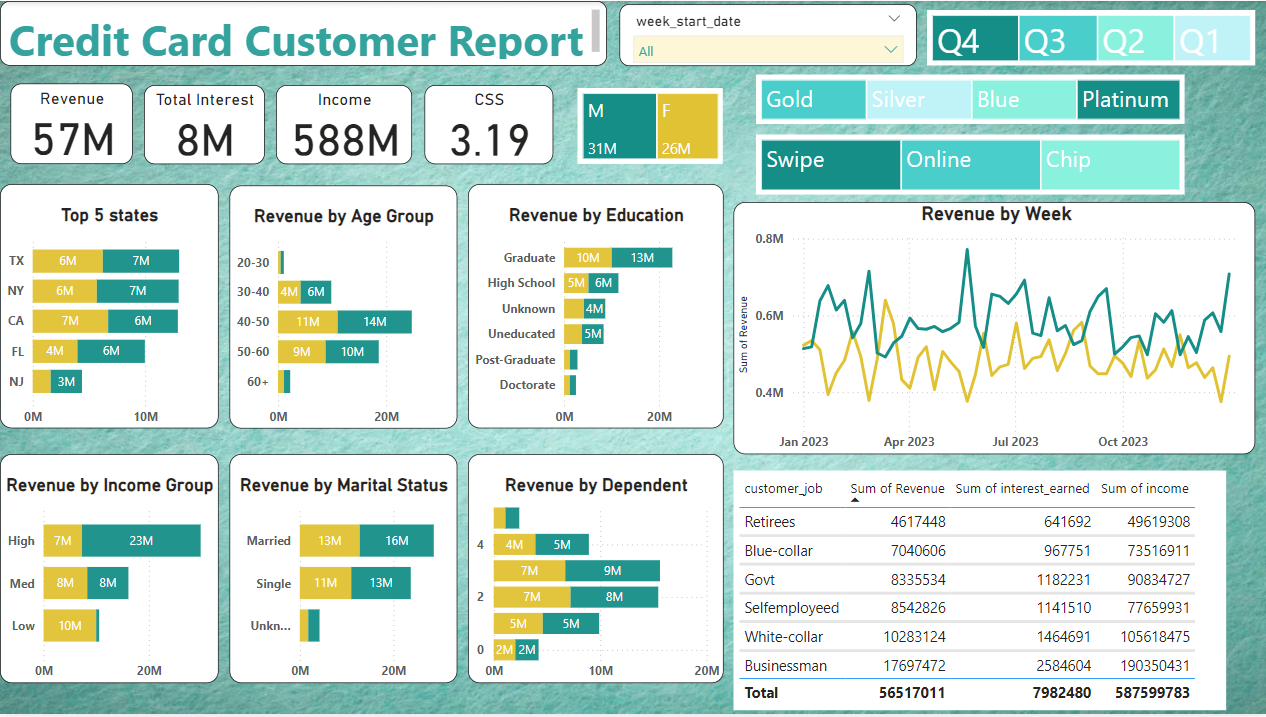

The page's visual inventory and layout, read from the dashboard file:
{"tool":"powerbi","page":{"name":"CC Customer","canvas":[1280,720],"ordinal":2},"visuals":[{"type":"textbox","box":[0,0,612.5,65.6],"z":0},{"type":"barChart","title":"Revenue by Income Group","fields":{"Y":["Sum(public cc_detail.Revenue)"],"Category":["public cust_detail.IncomeGroup"],"Series":["public cust_detail.gender"]},"box":[0,458,220.4,231.3],"z":1000},{"type":"tableEx","fields":{"Values":["public cust_detail.customer_job","Sum(public cc_detail.Revenue)","Sum(public cc_detail.interest_earned)","Sum(public cust_detail.income)"]},"box":[740.9,473.6,497,242.3],"z":2000},{"type":"card","title":"Revenue","fields":{"Values":["Sum(public cc_detail.Revenue)"]},"box":[10.9,82.8,123.5,81.3],"z":3000},{"type":"card","title":"Income","fields":{"Values":["Sum(public cust_detail.income)"]},"box":[278.2,84.4,137.5,79.7],"z":4000},{"type":"card","title":"Total Interest","fields":{"Values":["Sum(public cc_detail.interest_earned)"]},"box":[145.4,84.4,121.9,79.7],"z":5000},{"type":"card","title":"CSS","fields":{"Values":["Avg(public cust_detail.cust_satisfaction_score)"]},"box":[428.3,84.4,129.7,79.7],"z":6000},{"type":"slicer","fields":{"Values":["public cc_detail.week_start_date"]},"box":[625.2,3.1,300.1,62.5],"z":7000},{"type":"treemap","fields":{"Group":["public cc_detail.qtr"],"Values":["Avg(public cc_detail.client_num)"]},"box":[936.2,9.4,331.4,56.3],"z":8000},{"type":"lineChart","title":"Revenue by Week","fields":{"Y":["Sum(public cc_detail.Revenue)"],"Series":["public cust_detail.gender"],"Category":["public cc_detail.week_start_date.Variation.Date Hierarchy.Year","public cc_detail.week_start_date.Variation.Date Hierarchy.Month","public cc_detail.week_start_date.Variation.Date Hierarchy.Day"]},"box":[740.9,203.2,526.7,254.8],"z":9000},{"type":"treemap","fields":{"Group":["public cust_detail.gender"],"Values":["Sum(public cc_detail.Revenue)"]},"box":[583,87.5,146.9,76.6],"z":10000},{"type":"barChart","title":"Revenue by Age Group","fields":{"Y":["Sum(public cc_detail.Revenue)"],"Category":["public cust_detail.AgeGroup"],"Series":["public cust_detail.gender"]},"box":[231.3,186,229.8,245.4],"z":11000},{"type":"barChart","title":"Revenue by Dependent","fields":{"Y":["Sum(public cc_detail.Revenue)"],"Category":["public cust_detail.dependent_count"],"Series":["public cust_detail.gender"]},"box":[472,458,257.9,231.3],"z":12000},{"type":"barChart","title":"Revenue by Education","fields":{"Y":["Sum(public cc_detail.Revenue)"],"Category":["public cust_detail.education_level"],"Series":["public cust_detail.gender"]},"box":[472,184.4,257.9,247],"z":13000},{"type":"barChart","title":"Top 5 states","fields":{"Y":["Sum(public cc_detail.Revenue)"],"Category":["public cust_detail.state_cd"],"Series":["public cust_detail.gender"]},"box":[0,184.4,220.4,247],"z":14000},{"type":"barChart","title":"Revenue by Marital Status","fields":{"Y":["Sum(public cc_detail.Revenue)"],"Category":["public cust_detail.marital_status"],"Series":["public cust_detail.gender"]},"box":[231.3,458,229.8,231.3],"z":15000},{"type":"treemap","fields":{"Group":["public cc_detail.card_category"],"Values":["Avg(public cc_detail.client_num)"]},"box":[762.7,73.5,432.9,50],"z":16000},{"type":"treemap","fields":{"Group":["public cc_detail.use_chip"],"Values":["Avg(public cc_detail.client_num)"]},"box":[762.7,134.4,432.9,61],"z":17000}]}

Visuals, with their boxes in screenshot pixels (x1, y1, x2, y2), scaled from the page's 1280x720 canvas onto the 1266x717 screenshot:
textbox: [left=0, top=0, right=606, bottom=65]
"Revenue by Income Group" barChart: [left=0, top=456, right=218, bottom=686]
tableEx - public cust_detail.customer_job x Sum(public cc_detail.Revenue): [left=733, top=472, right=1224, bottom=713]
"Revenue" card: [left=11, top=82, right=133, bottom=163]
"Income" card: [left=275, top=84, right=411, bottom=163]
"Total Interest" card: [left=144, top=84, right=264, bottom=163]
"CSS" card: [left=424, top=84, right=552, bottom=163]
slicer - public cc_detail.week_start_date: [left=618, top=3, right=915, bottom=65]
treemap - public cc_detail.qtr x Avg(public cc_detail.client_num): [left=926, top=9, right=1254, bottom=65]
"Revenue by Week" lineChart: [left=733, top=202, right=1254, bottom=456]
treemap - public cust_detail.gender x Sum(public cc_detail.Revenue): [left=577, top=87, right=722, bottom=163]
"Revenue by Age Group" barChart: [left=229, top=185, right=456, bottom=430]
"Revenue by Dependent" barChart: [left=467, top=456, right=722, bottom=686]
"Revenue by Education" barChart: [left=467, top=184, right=722, bottom=430]
"Top 5 states" barChart: [left=0, top=184, right=218, bottom=430]
"Revenue by Marital Status" barChart: [left=229, top=456, right=456, bottom=686]
treemap - public cc_detail.card_category x Avg(public cc_detail.client_num): [left=754, top=73, right=1183, bottom=123]
treemap - public cc_detail.use_chip x Avg(public cc_detail.client_num): [left=754, top=134, right=1183, bottom=195]
